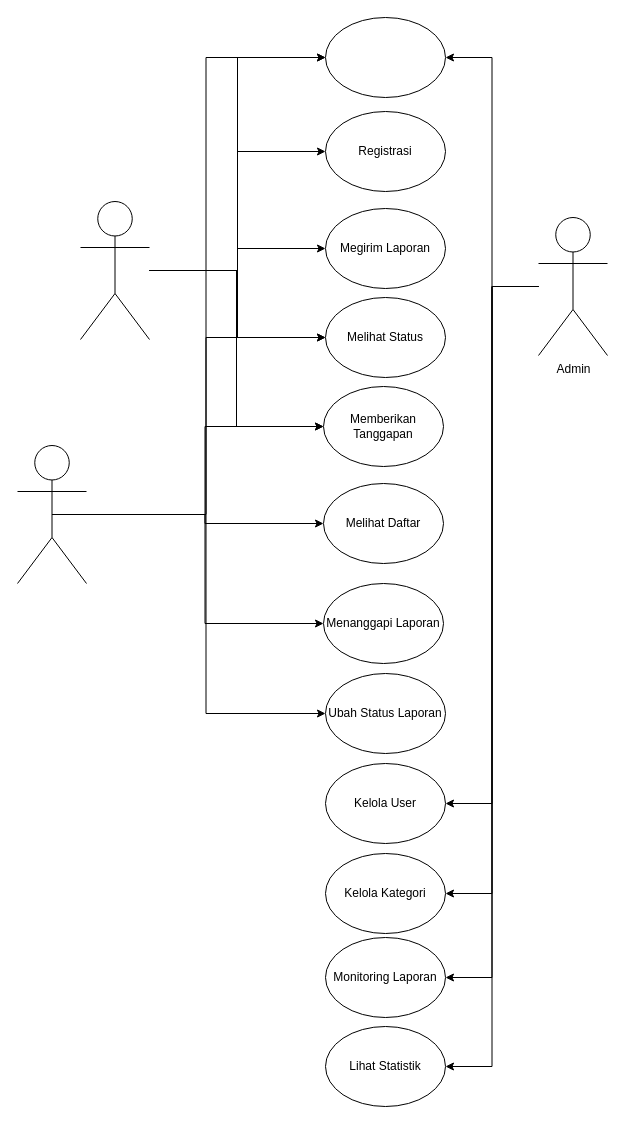
The diagram is 625 pixels wide and 1124 high, and some of its shapes have lost their labels. The centre of each missing label's shape, as x and y in pixels:
Login: point 385,57
Masyarakat: point 115,270
Petugas: point 51,514
